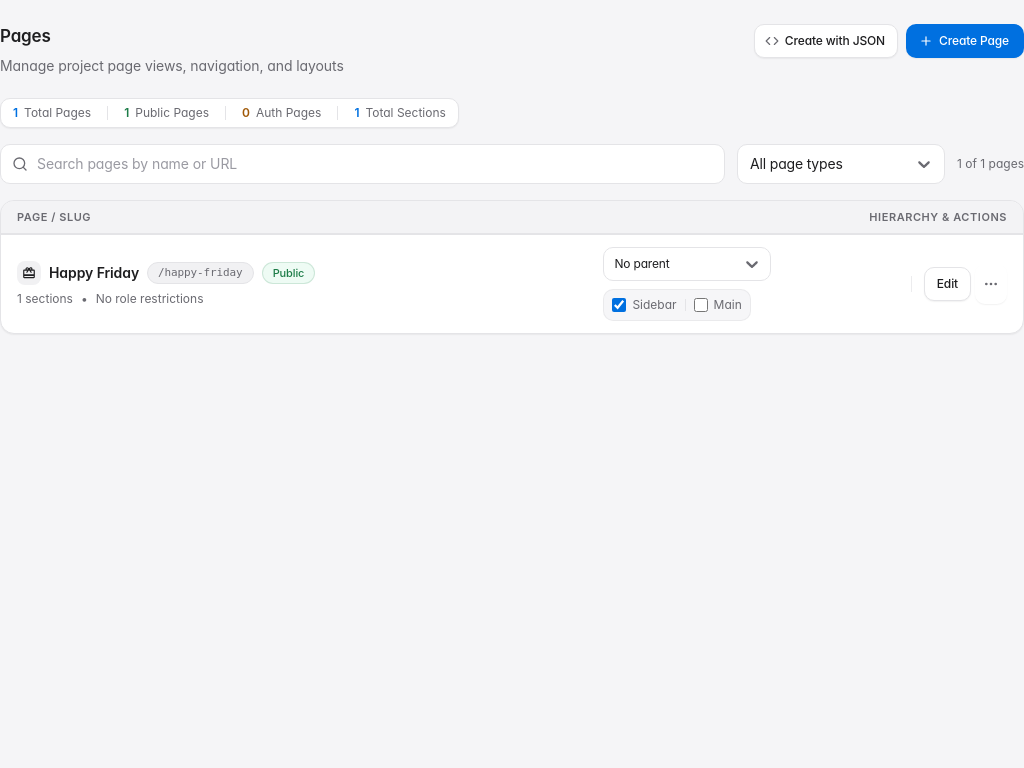
Test: PagesSection designer workspace › preserves edits made while an earlier save is in flight
Click the button "Edit" at point(947, 284), box [924,267,971,301]
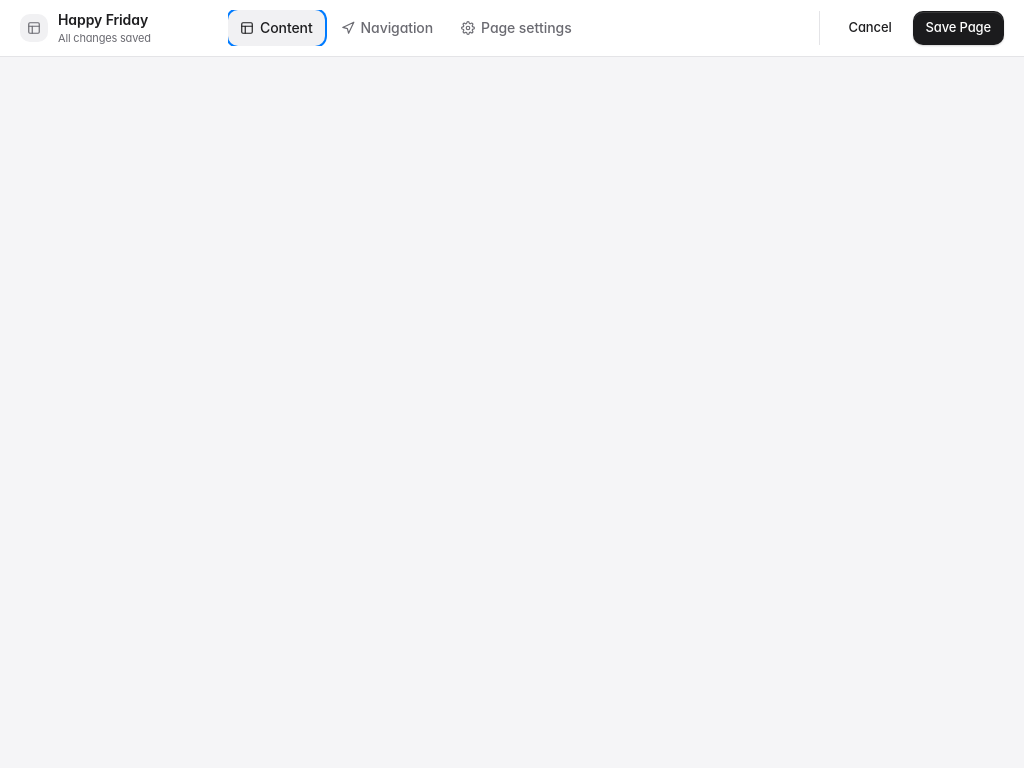
Click the tab "Page settings" at point(516, 28), box [449,10,584,46]
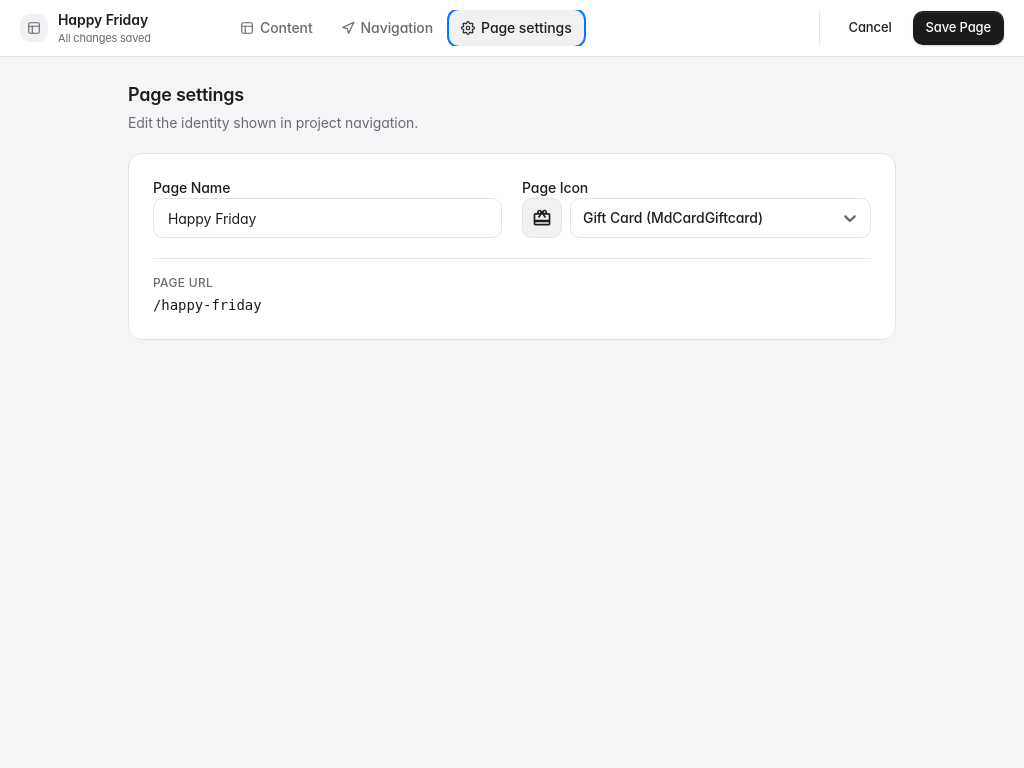
Replace the text in the field labelled "Page Name" with "First draft" at point(328, 218), box [153,198,502,238]
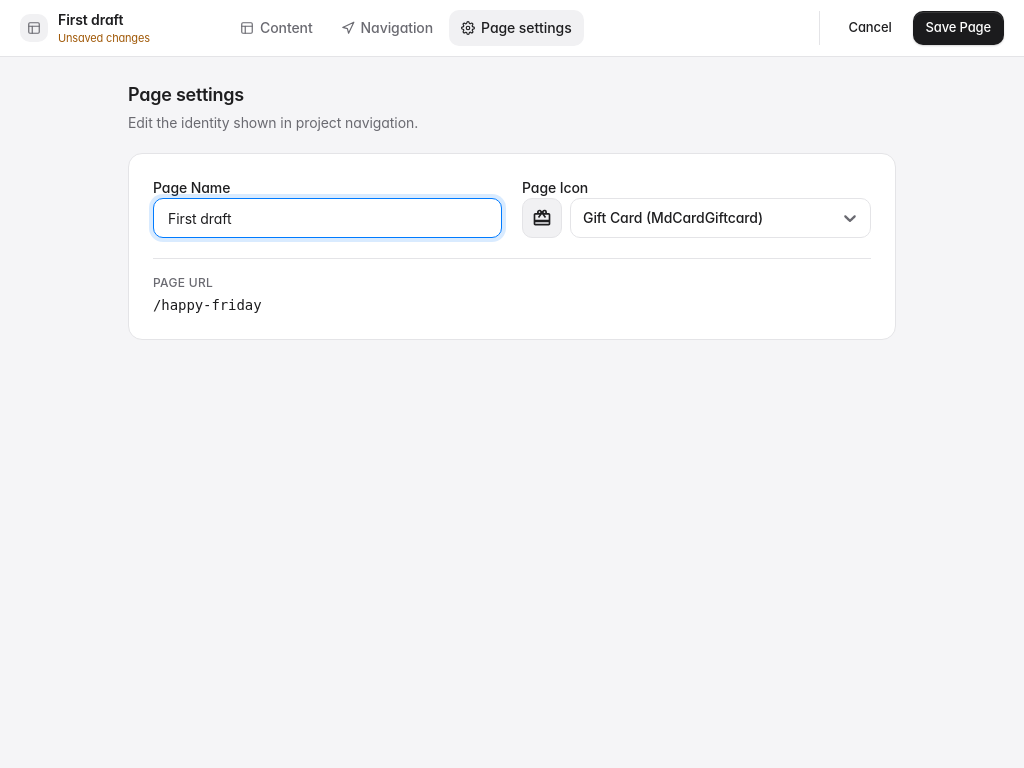
Click the button "Save Page" at point(958, 28), box [912,11,1004,45]
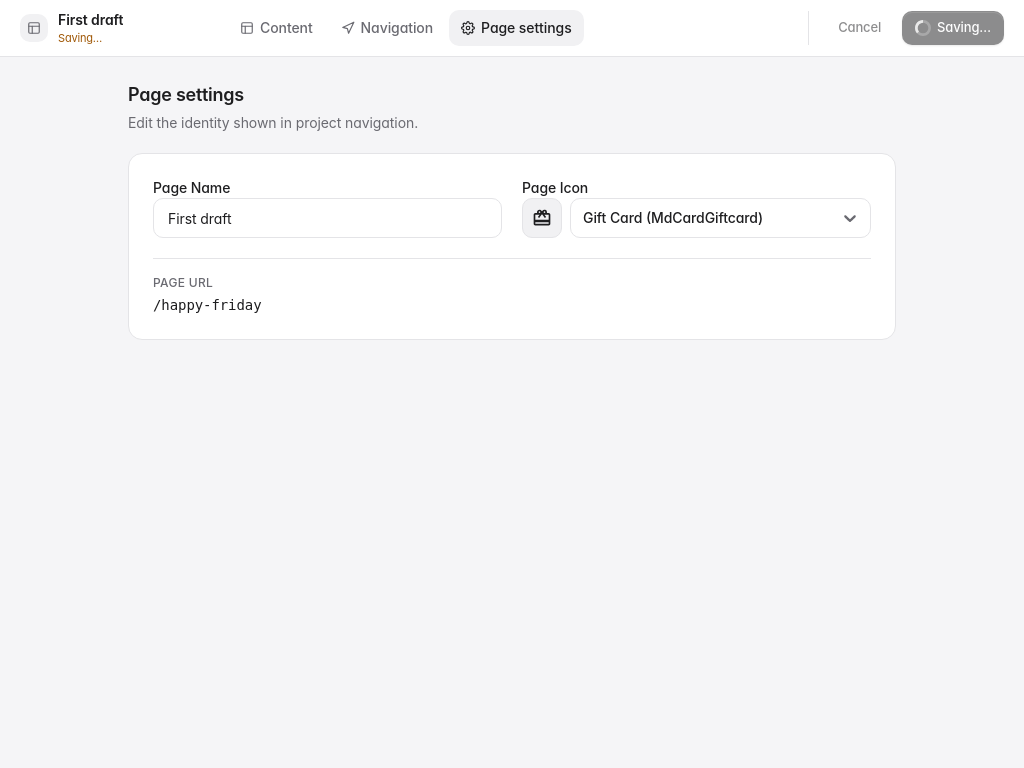
Replace the text in the field labelled "Page Name" with "Newer draft" at point(328, 218), box [153,198,502,238]
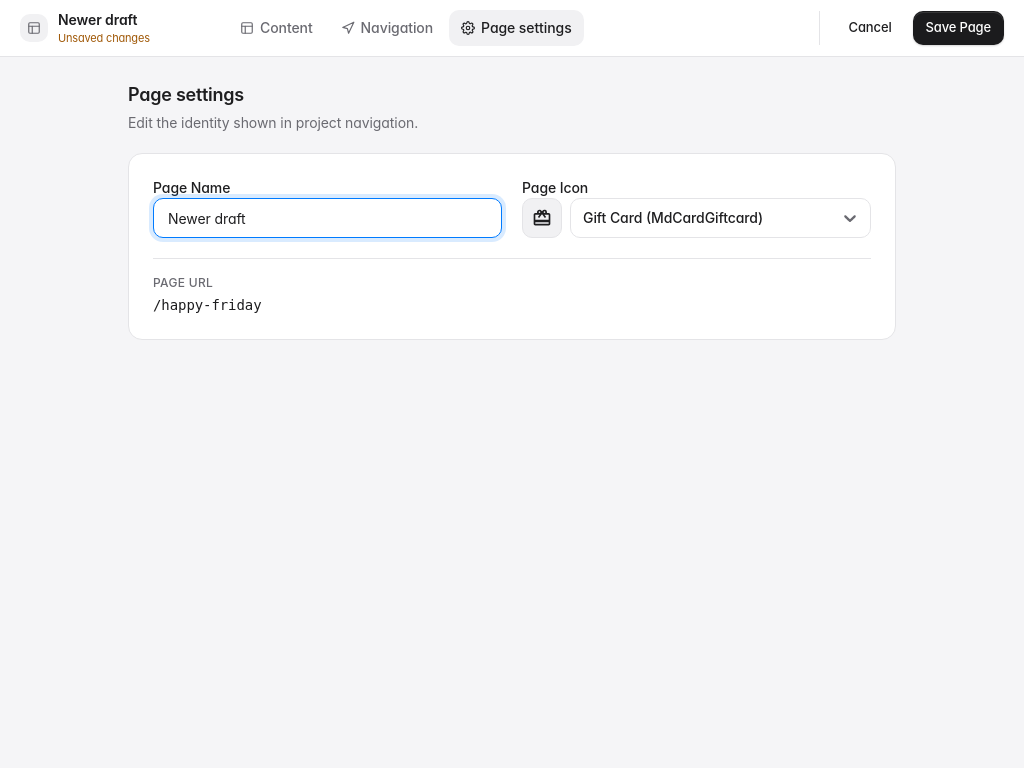
Now the text "Unsaved changes" is shown, box [58,30,150,46]
